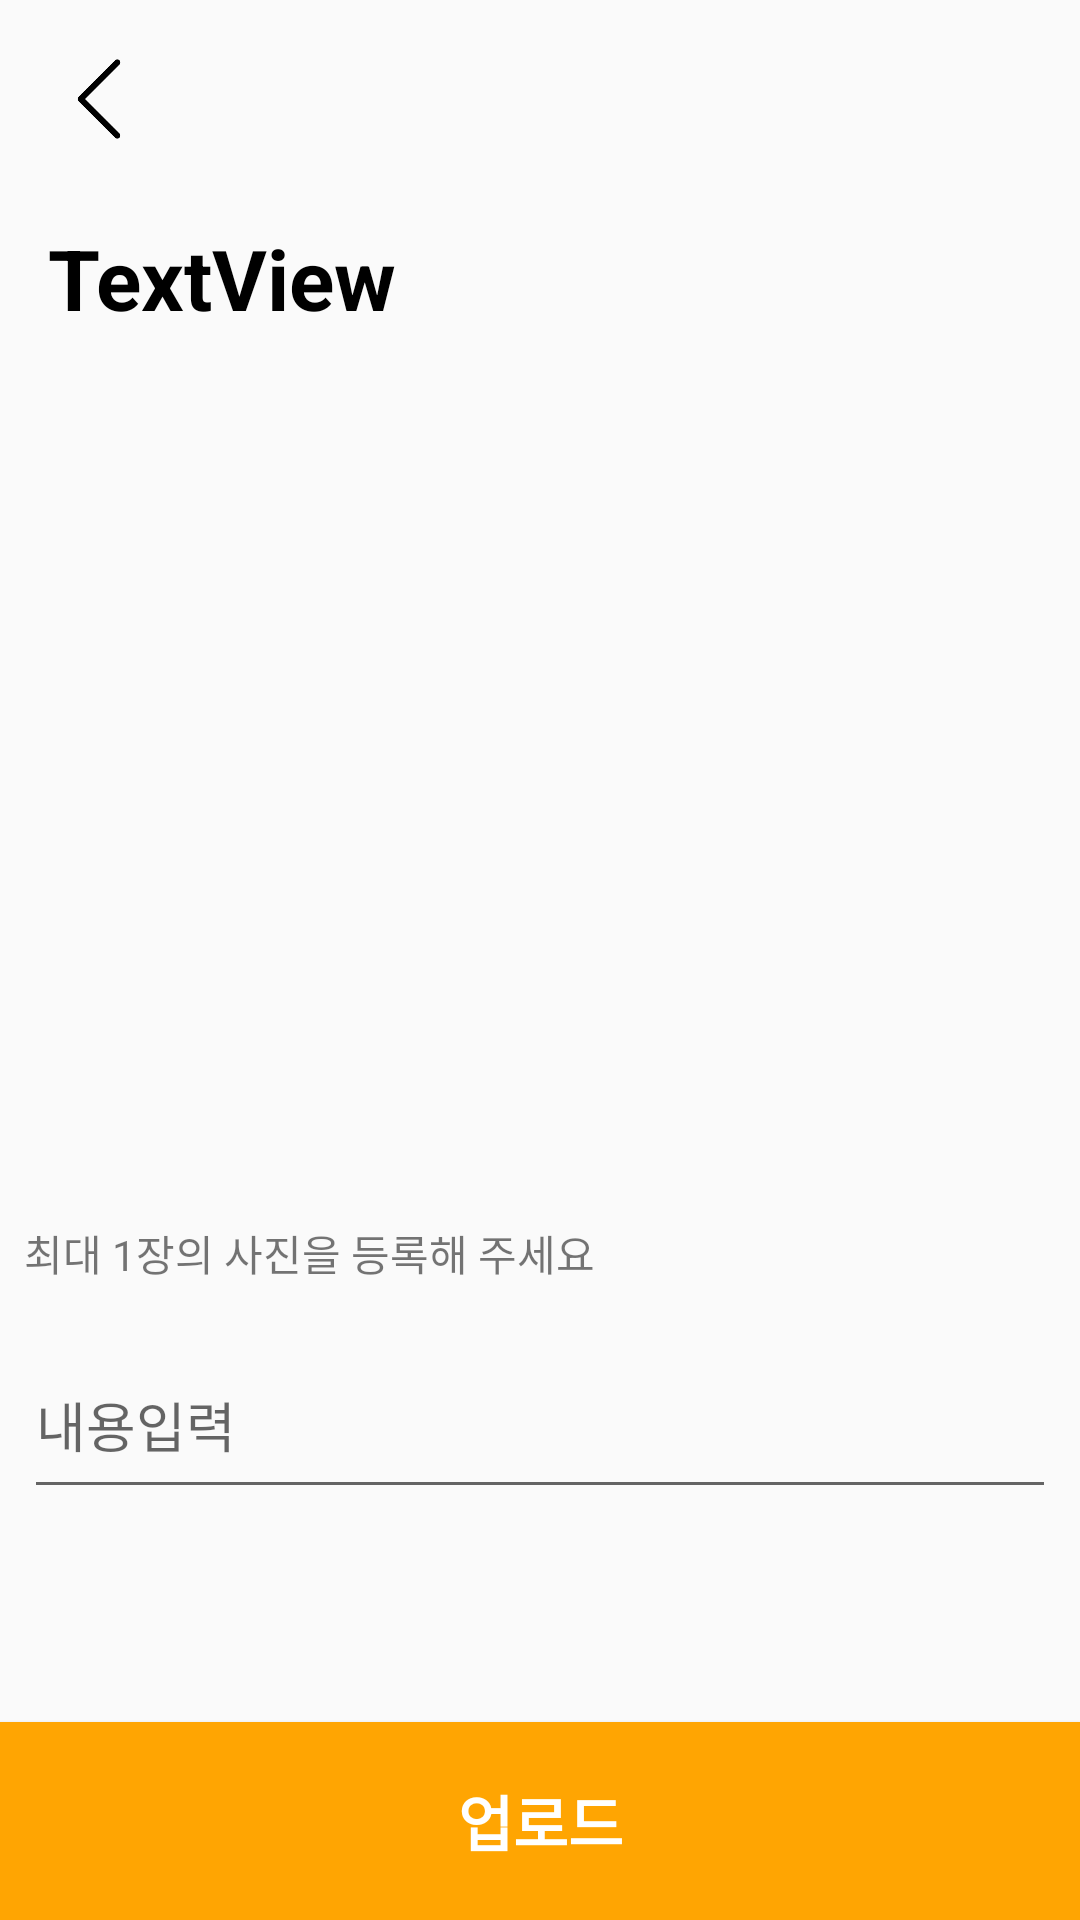

Where to tap for icons on this 1080 × 1920 app screen, as [x,y]:
back: [99,99]
